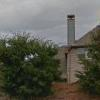Chimney: (62, 7, 81, 41)
